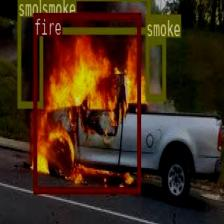fire: (33, 11, 140, 192)
smoke: (41, 0, 149, 33), (17, 0, 42, 106), (145, 37, 165, 99)
